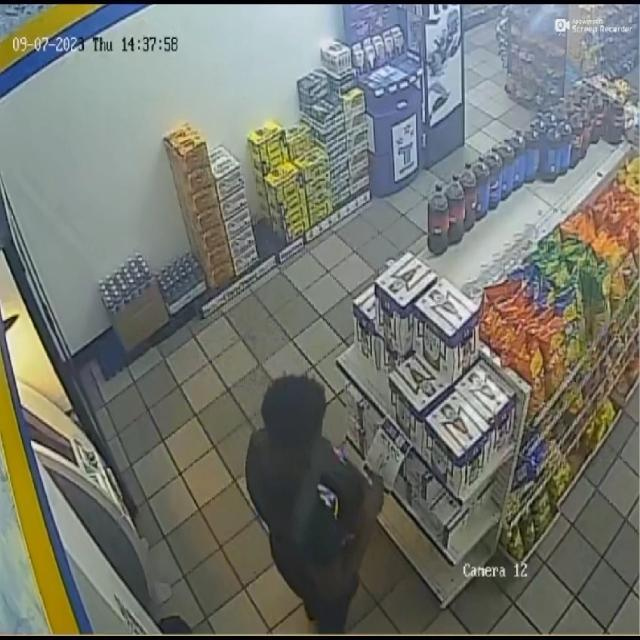Normal: (222, 350, 400, 638)
